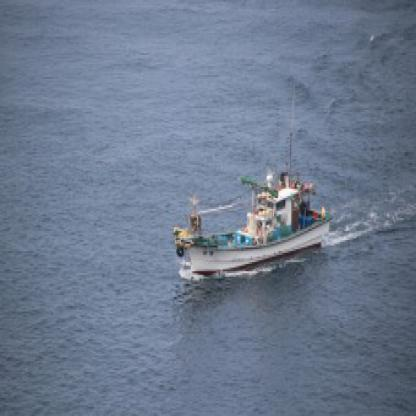fish-b: (169, 156, 336, 290)
